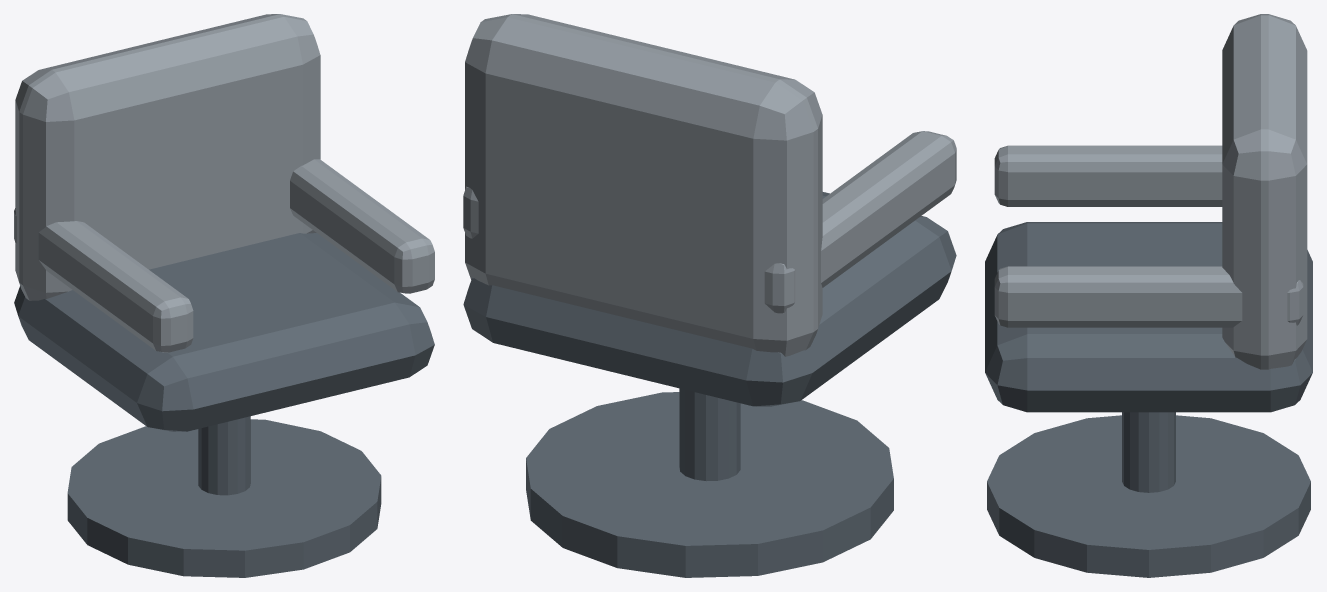
The model's file is 2_Service.fbx.
3 views of the same model, side by side, from view 1: azimuth 30°, elevation 25°; view 2: azimuth 150°, elevation 25°; view 3: azimuth 270°, elevation 25° (orthographic). The views are drawn at different scales.
Visible parts, largest first — view 1: Body; view 2: Body; view 3: Body.
Boxes of the visible parts, x1,y1,x2,y2 form: Body: (14, 14, 434, 577); Body: (463, 14, 956, 577); Body: (985, 14, 1312, 577).
Size of the model in its own units: 0.9 by 1.25 by 0.85.
